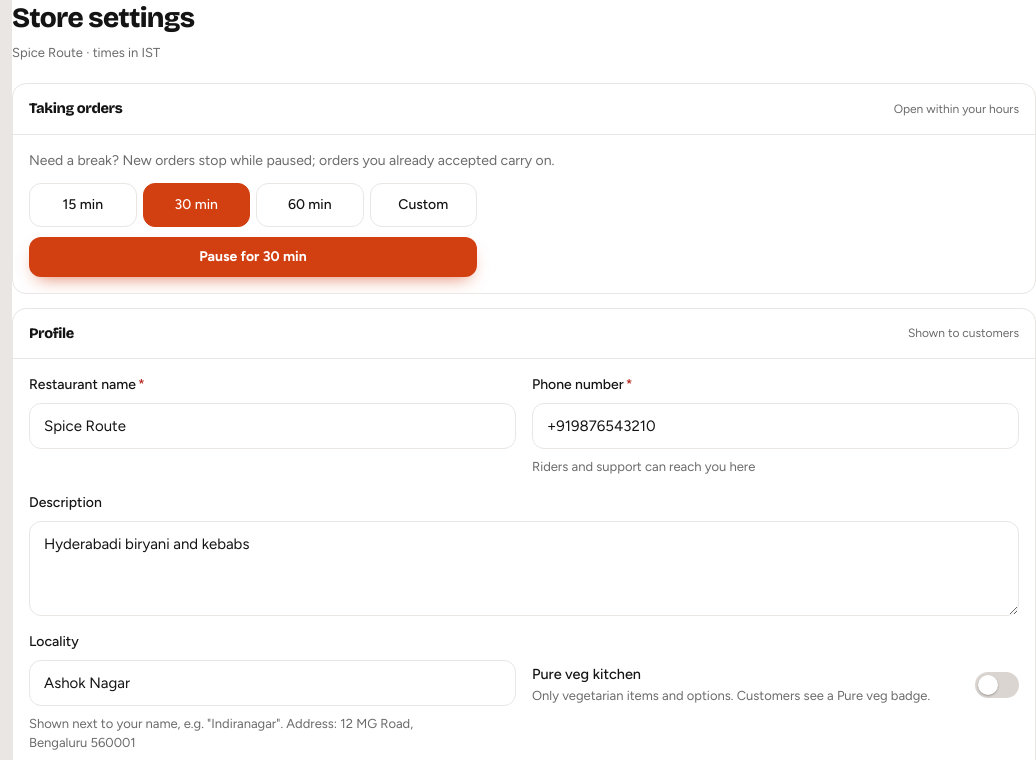
Store settings › names the non-veg items that block pure veg (422)
Step 1. Click the switch labelled "Pure veg kitchen" → click(586, 674), box x1=532 y1=656 x2=1019 y2=713
(page scrolled)
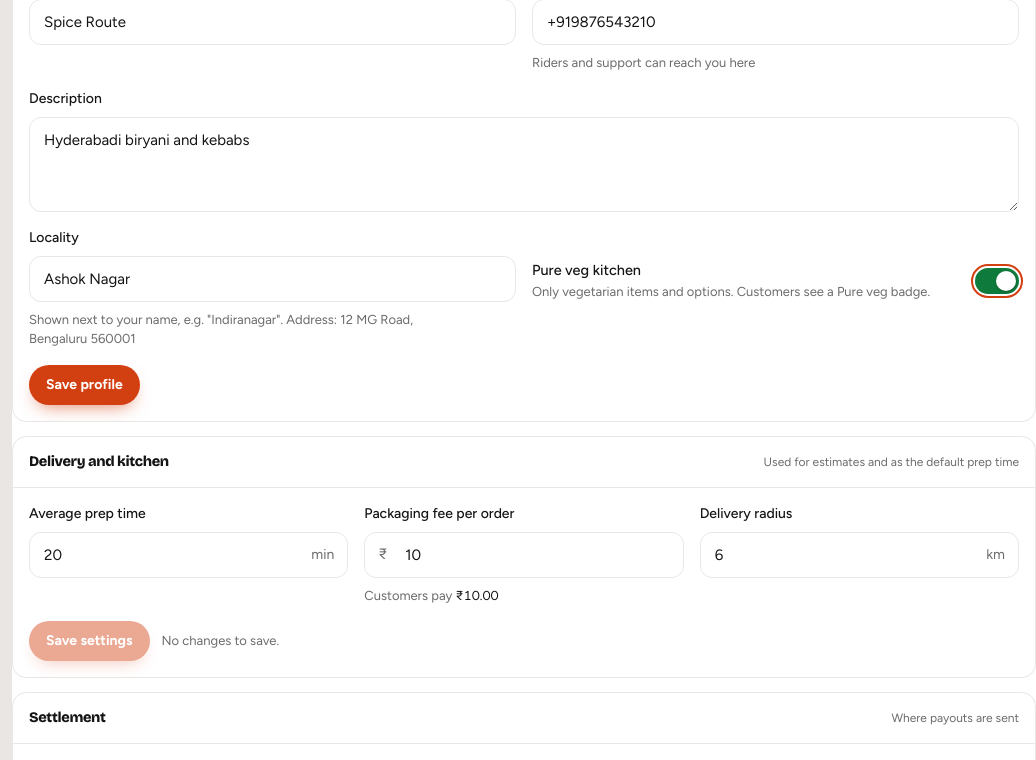
Step 2. Click the button "Save profile" → click(84, 385), box x1=29 y1=365 x2=140 y2=405
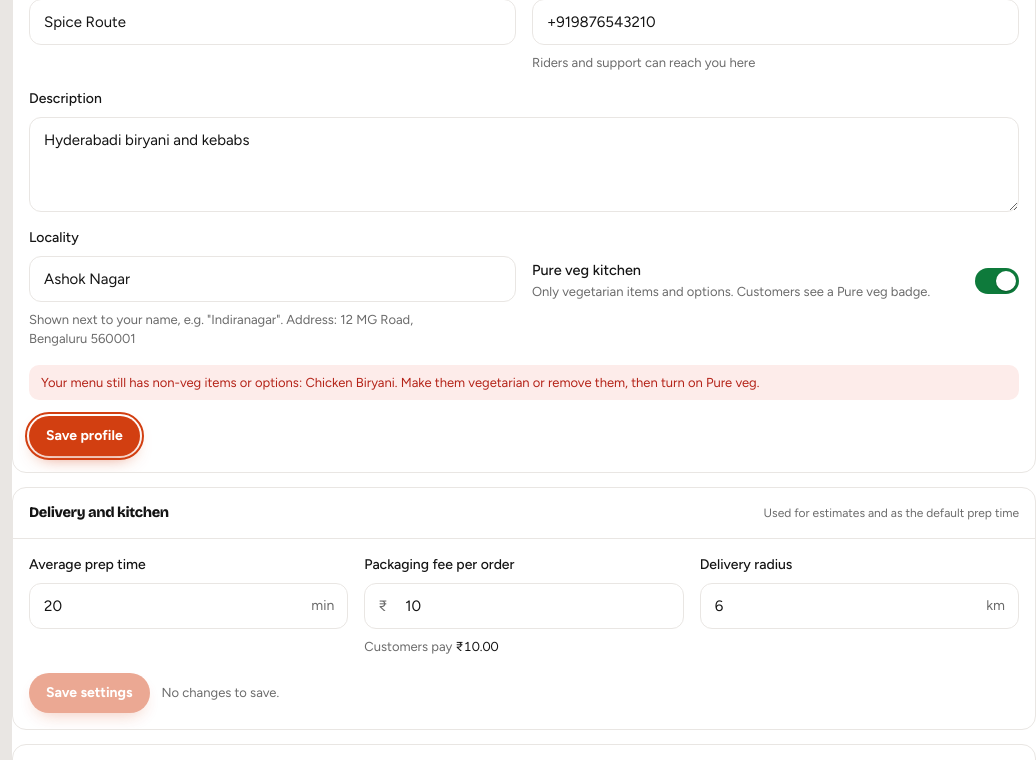
Expected: the text "still has non-veg items or options: Chicken Biryani" is shown, x1=41 y1=375 x2=759 y2=390
